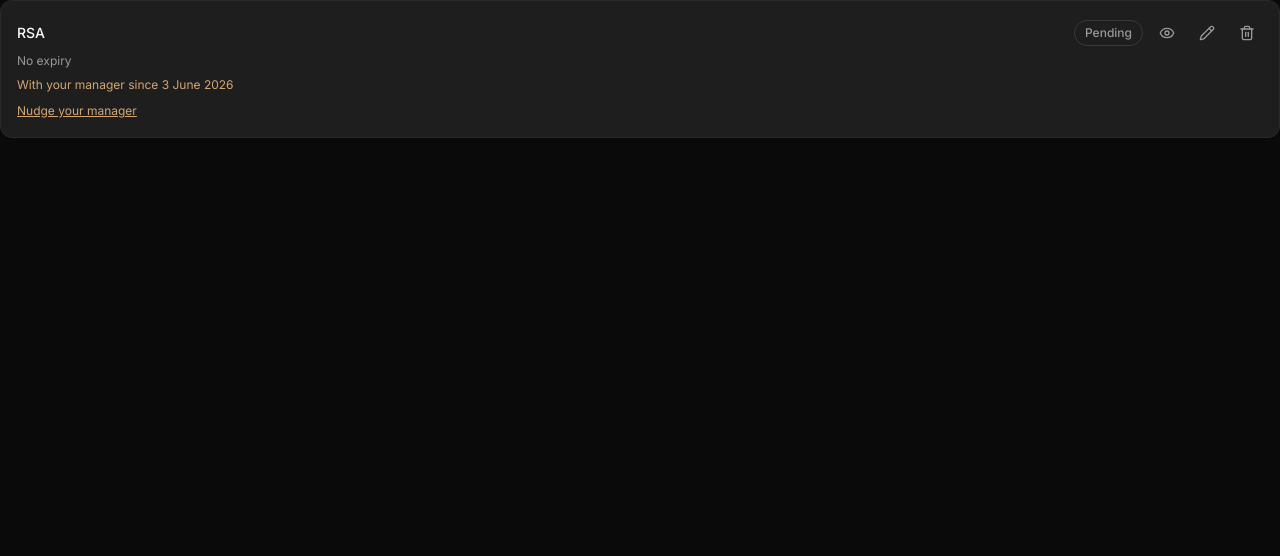
Test: MyDocumentsList › shows a preview error inline (without losing the list) when the signed URL can't be fetched
expect the text "RSA" is shown: met, box [17,23,45,43]
Step 1. Click the button named "View RSA" → [1167, 33], box [1151,17,1183,49]
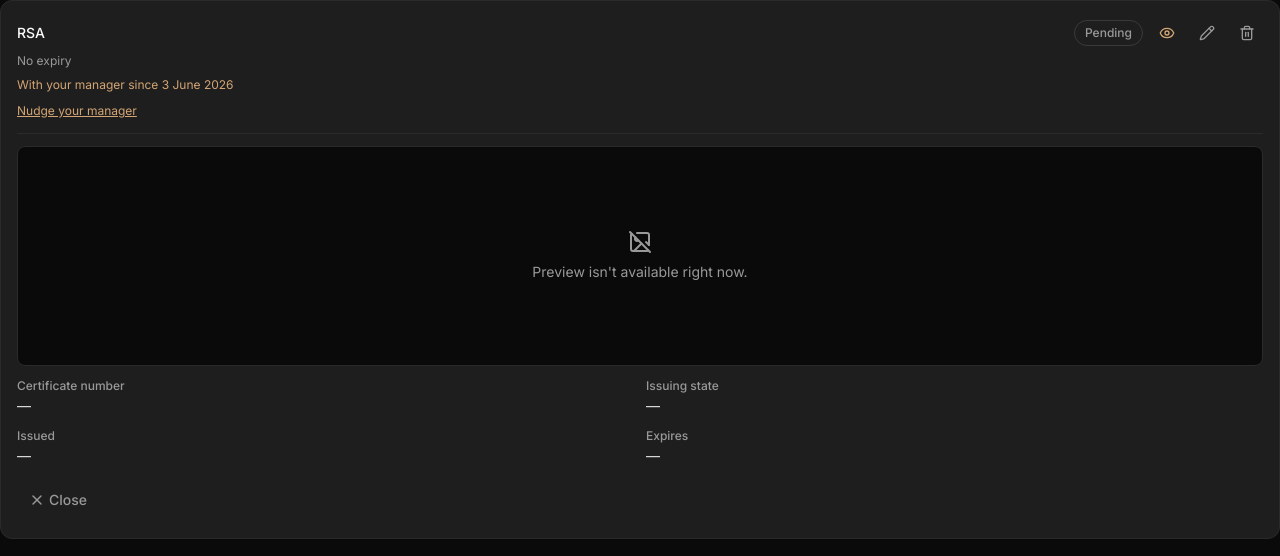
expect the text "RSA" is shown: met, box [17,23,45,43]
expect the text "Preview isn't available right now." is shown: met, box [532,262,748,282]
